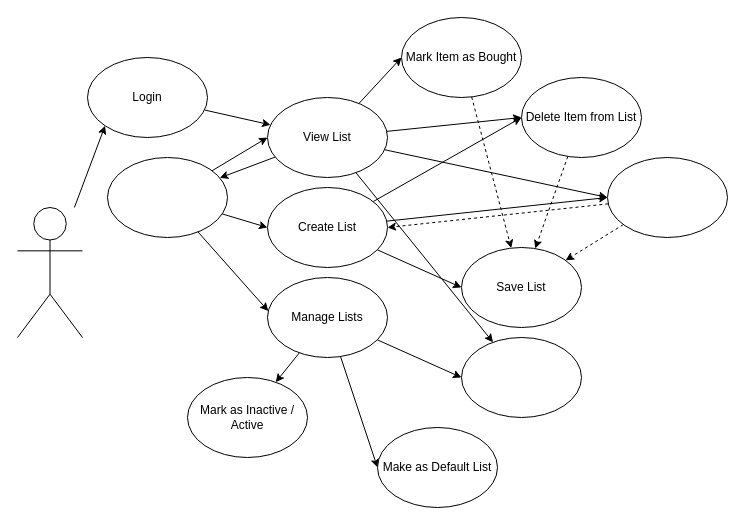
Image size: 745x525. Some labels were removed from this diagram. The box of each missing label's shape, as (x1, y1, x2, y2) in pixels:
Add Item to List: (606, 156, 728, 238)
Mark as Complete: (460, 336, 582, 418)
User: (16, 206, 82, 338)
View Lists: (106, 156, 228, 238)
